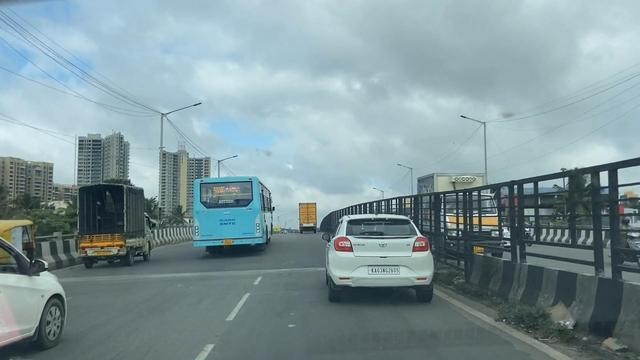HMV: (189, 163, 279, 260), (73, 181, 153, 270), (295, 197, 320, 234)
